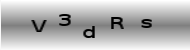3: (55, 13, 73, 27)
R: (109, 16, 125, 30)
V: (30, 18, 48, 34)
d: (81, 25, 97, 39)
s: (139, 18, 154, 29)
